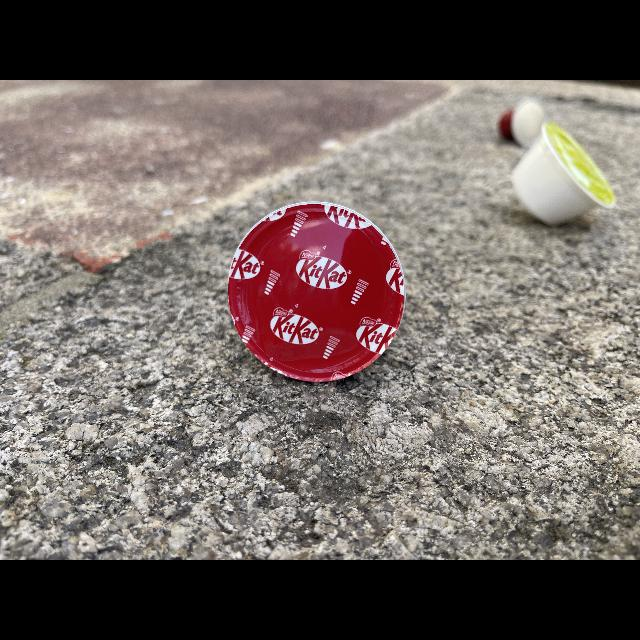intact_capsule: (210, 195, 416, 388), (499, 119, 633, 241), (491, 94, 562, 160)
